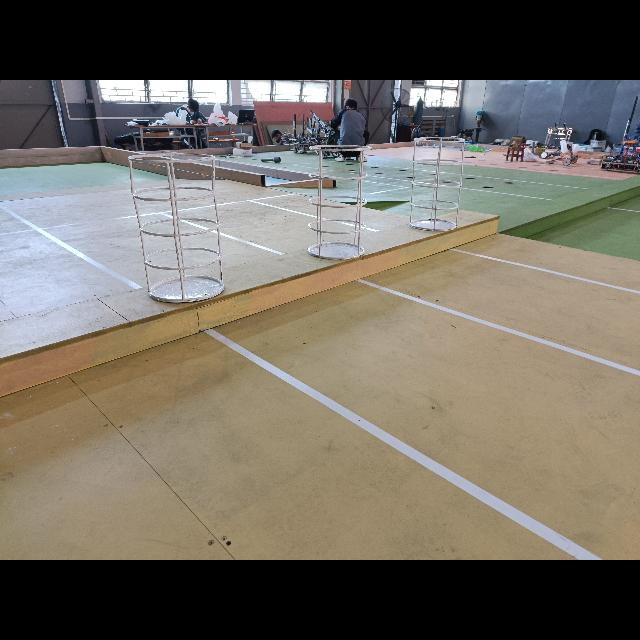S: (128, 152, 228, 304), (307, 143, 372, 261), (408, 136, 466, 232)
